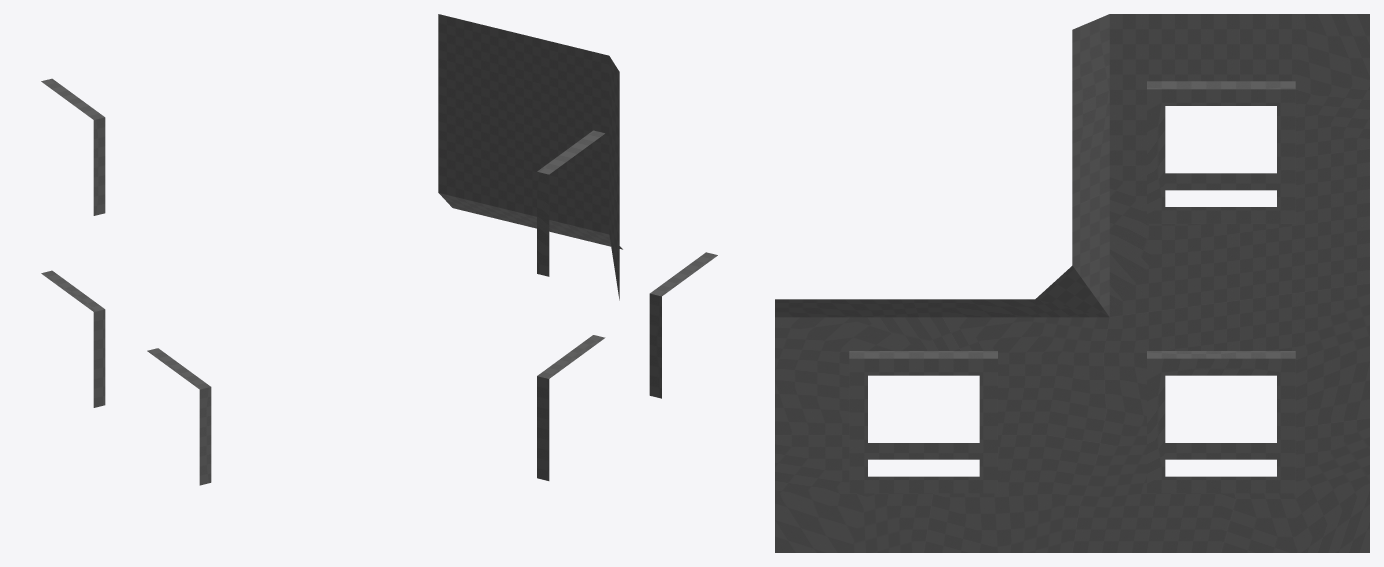
The picture shows the model from 3 angles, left to right: view 1: azimuth 30°, elevation 25°; view 2: azimuth 150°, elevation 25°; view 3: azimuth 270°, elevation 25°; orthographic projection. The views are drawn at different scales.
Visible parts, largest first — view 1: 3; view 2: 3; view 3: 3.
Part boxes in pixels (x1,y1,x2,y2): 3: (41,78,211,485); 3: (438,14,717,480); 3: (775,14,1369,552).
Size of the model in its own units: 2 by 4 by 4.
2 materials, 2 textured.
